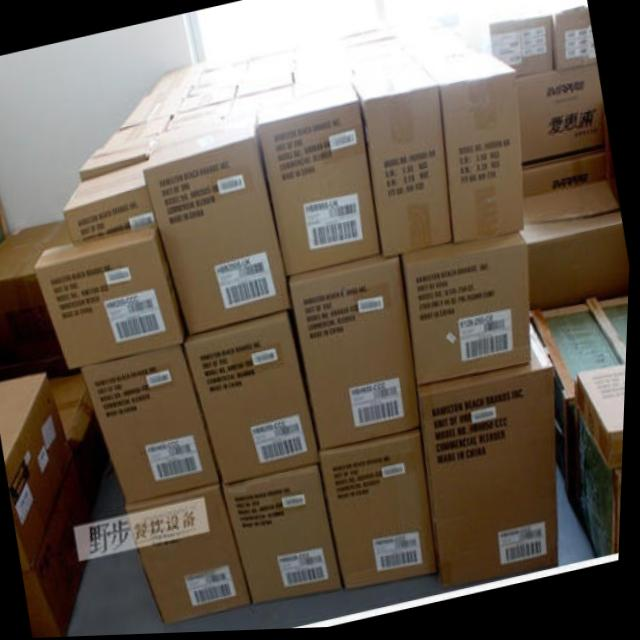box: (421, 325, 563, 593), (146, 111, 293, 332), (290, 250, 425, 451), (0, 375, 99, 638), (258, 84, 384, 276), (188, 309, 323, 484), (35, 224, 189, 367), (82, 347, 224, 502), (232, 10, 477, 99), (420, 52, 527, 245), (403, 235, 536, 388), (352, 67, 456, 257), (322, 431, 441, 591), (128, 482, 255, 627), (222, 466, 348, 607), (525, 185, 631, 315), (0, 218, 74, 381), (516, 66, 611, 173), (50, 364, 118, 512), (63, 161, 160, 238), (522, 152, 615, 202), (492, 20, 556, 79), (80, 134, 155, 181), (119, 90, 189, 128), (553, 11, 596, 71), (101, 118, 172, 149), (169, 101, 234, 132), (150, 61, 207, 96), (229, 88, 294, 117), (175, 85, 239, 113), (191, 65, 247, 93), (201, 48, 254, 75)
